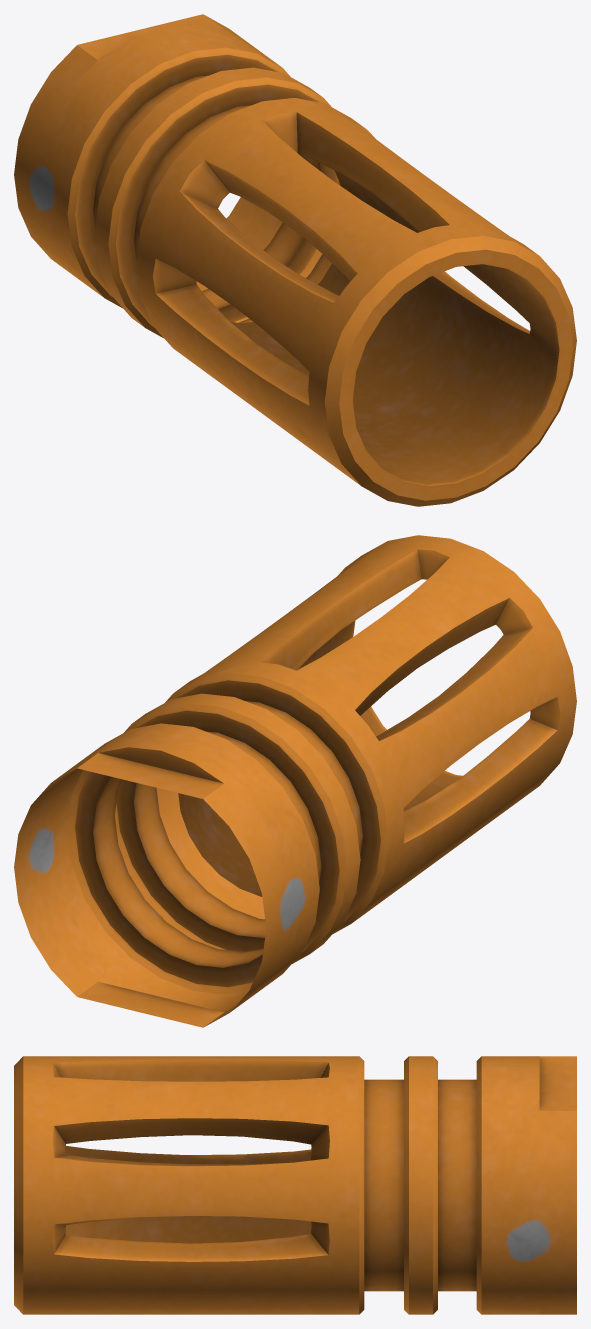
File: M4_OrangeTip.fbx
The picture shows the model from 3 angles, top to bottom: view 1: azimuth 30°, elevation 25°; view 2: azimuth 150°, elevation 25°; view 3: azimuth 270°, elevation 25°; orthographic projection. The views are drawn at different scales.
Parts seen in each view (by area): view 1: BaseOrangeTip; view 2: BaseOrangeTip; view 3: BaseOrangeTip.
Boxes of the visible parts, x1,y1,x2,y2 form: BaseOrangeTip: (14, 14, 576, 506); BaseOrangeTip: (14, 535, 576, 1027); BaseOrangeTip: (14, 1056, 576, 1314).
Size of the model in its own units: 2.02 by 2.02 by 4.39.
1 material, 1 textured.
